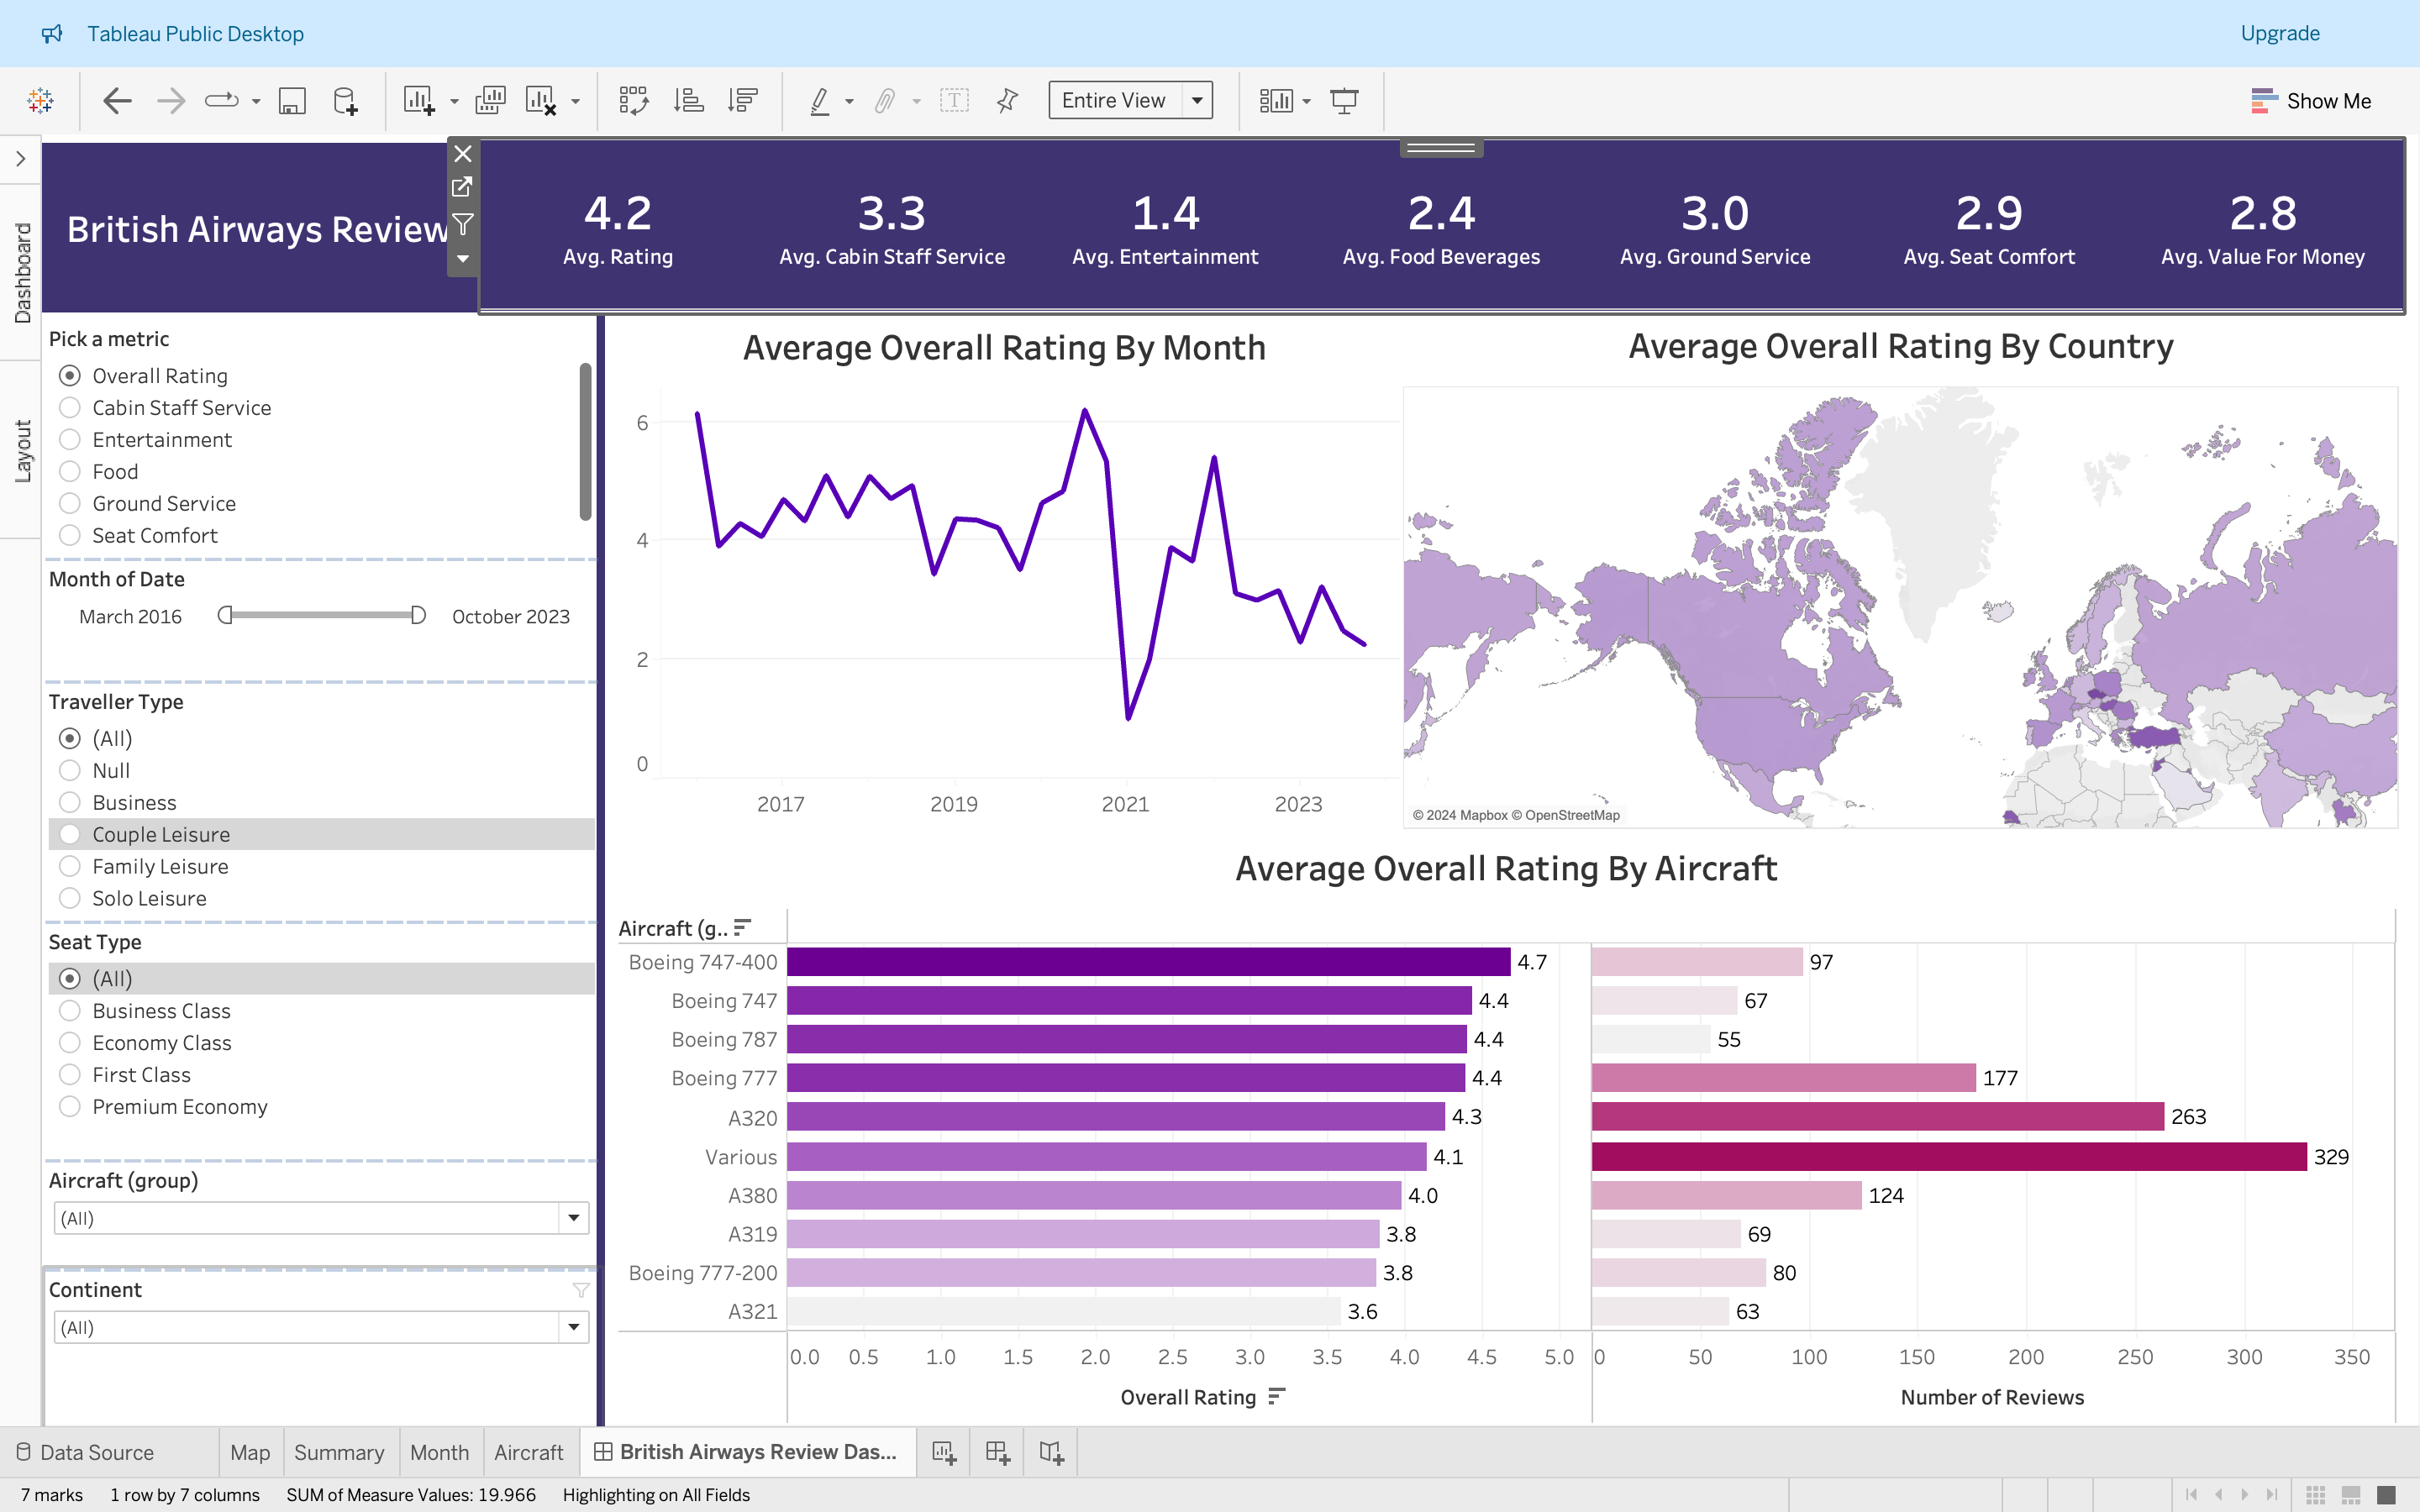

What the dashboard file says about the page in this screenshot:
{"tool":"tableau","page":{"name":"British Airways Review Dashboard","canvas":[1000,1000],"units":"permille","ordinal":0},"visuals":[{"type":"worksheet","title":"Summary","mark":"Automatic","box":[184.4,4.5,809.2,133.3]},{"type":"text","box":[0,6.1,183.5,131.8]},{"type":"worksheet","title":"Map","mark":"Automatic","box":[572.6,139.4,419.5,400]},{"type":"worksheet","title":"Month","mark":"Automatic","rows":["Calculation_3450461025106800640"],"cols":["date"],"box":[239.2,140.9,332.6,397]},{"type":"parameter","param":"[Parameters].[Parameter 1]","box":[0,142.4,235.8,168.7]},{"type":"filter","title":"Map","param":"[federated.1qh0jdy0lwj7p61c6wbo61eioe0l].[tmn:date:qk]","box":[0,311.1,235.8,110.6]},{"type":"filter","title":"Map","param":"[federated.1qh0jdy0lwj7p61c6wbo61eioe0l].[none:traveller_type:nk]","box":[0,421.7,235.8,168.7]},{"type":"worksheet","title":"Aircraft","mark":"Automatic","cols":["Calculation_3450461025106800640","ba_reviews.csv_809310A843454AB29D061630B3F8BA18"],"box":[242.3,543.9,748.2,456.1]},{"type":"filter","title":"Map","param":"[federated.1qh0jdy0lwj7p61c6wbo61eioe0l].[none:seat_type:nk]","box":[0,590.4,235.8,168.7]},{"type":"filter","title":"Map","param":"[federated.1qh0jdy0lwj7p61c6wbo61eioe0l].[Aircraft (group)]","box":[0,759.1,235.8,98.5]}]}

Visuals, with their boxes on the dashboard's canvas, which has no fixed pixel size, in thousandths of its width and height (x1, y1, x2, y2). These are canvas units, not pixel positions in the 2420x1512 screenshot, which may show the page scaled, cropped or inside an application window:
"Summary" worksheet: [184, 4, 994, 138]
text: [0, 6, 184, 138]
"Map" worksheet: [573, 139, 992, 539]
"Month" worksheet: [239, 141, 572, 538]
parameter: [0, 142, 236, 311]
"Map" filter: [0, 311, 236, 422]
"Map" filter: [0, 422, 236, 590]
"Aircraft" worksheet: [242, 544, 990, 1000]
"Map" filter: [0, 590, 236, 759]
"Map" filter: [0, 759, 236, 858]
